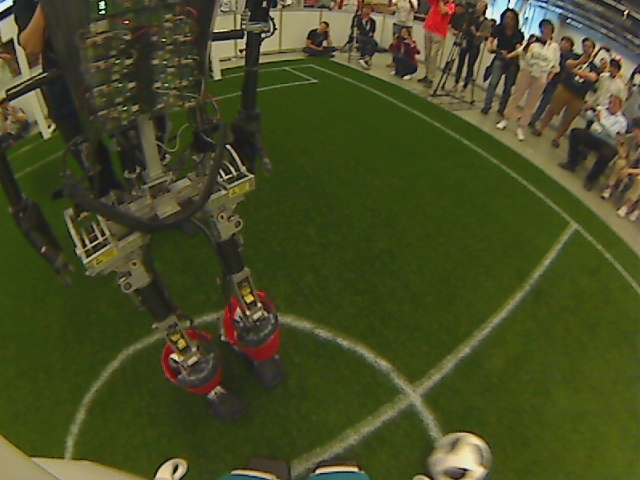ball: (422, 432, 495, 480)
goalpost: (30, 114, 59, 145), (207, 63, 229, 87)
robot: (155, 292, 297, 414)
